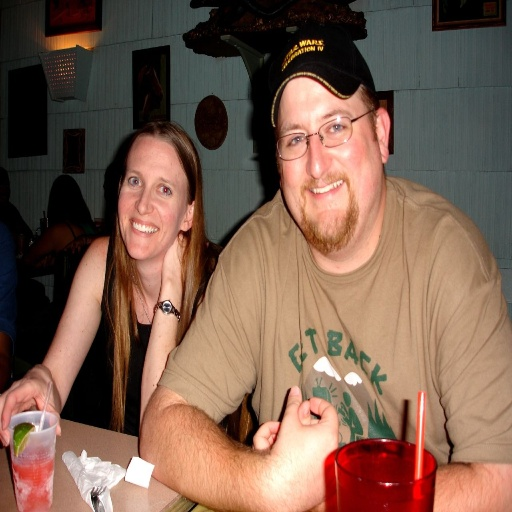hand: (252, 418, 324, 510), (0, 373, 63, 446)
